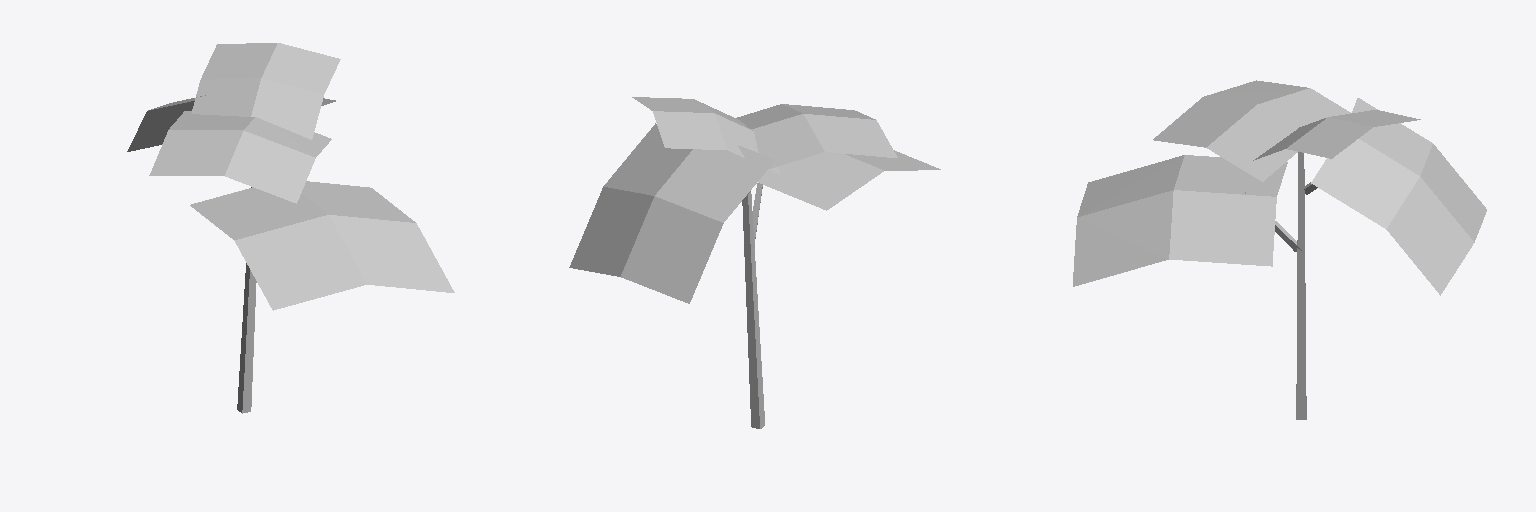
The model's file is SM_Prop_Hemp_01_S.obj.
The picture shows the model from 3 angles: view 1: azimuth 30°, elevation 25°; view 2: azimuth 150°, elevation 25°; view 3: azimuth 270°, elevation 25°; orthographic projection.
Size of the model in its own units: 18.79 by 24.6 by 28.48.